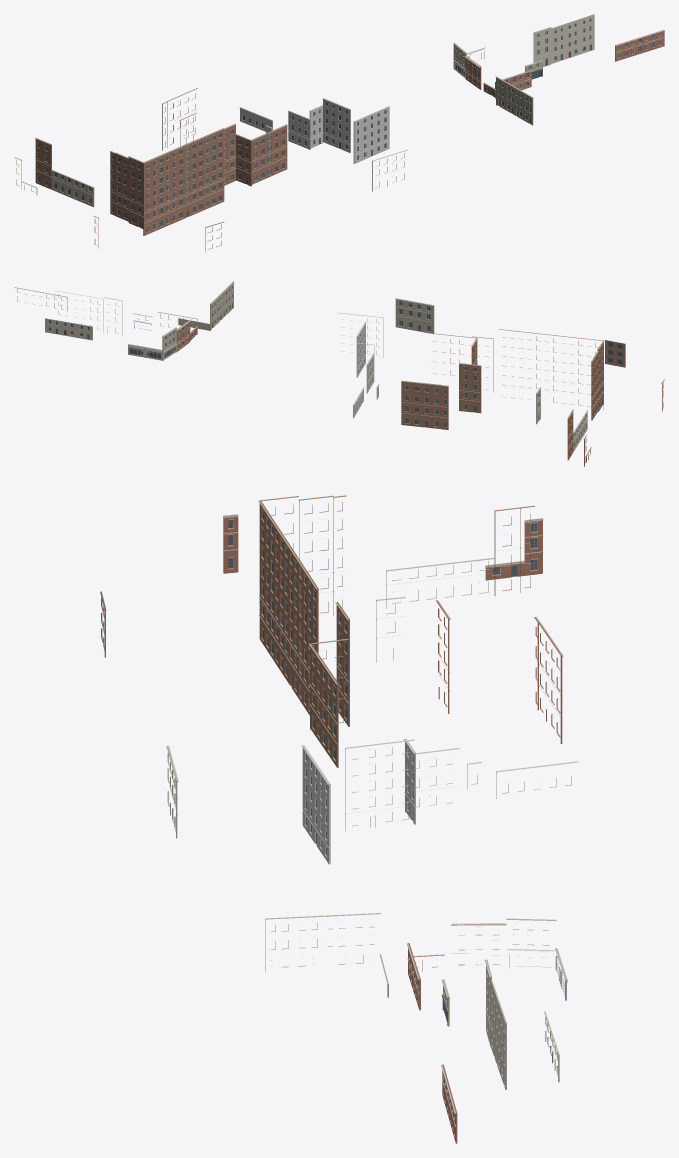
3 renders of one model, top to bottom at view 1: azimuth 30°, elevation 25°; view 2: azimuth 150°, elevation 25°; view 3: azimuth 270°, elevation 25°, orthographic. The views are drawn at different scales.
Visible parts, largest first — view 1: f:way/136211502, f:way/136211509, f:way/419502415, f:way/159704093, f:way/159705520, f:way/136211504, f:way/159704090, f:way/159704091, f:way/159705519, f:way/159704084, f:way/159704086; view 2: f:way/419502415, f:way/136211502, f:way/138144337, f:way/136211509, f:way/159704093, f:way/159705520, f:way/159704084, f:way/138144312, f:way/136211504, f:way/159704086; view 3: f:way/136211502, f:way/419502415, f:way/136211509, f:way/46928888, f:way/159704093.
Boxes of the visible parts, x1,y1,x2,y2 form: f:way/136211502: (35,128,224,235); f:way/136211509: (239,98,389,163); f:way/419502415: (162,88,287,186); f:way/159704093: (551,14,594,63); f:way/159705520: (495,76,533,125); f:way/136211504: (51,169,94,207); f:way/159704090: (615,30,664,61); f:way/159704091: (533,27,551,66); f:way/159705519: (483,70,531,98); f:way/159704084: (453,42,485,78); f:way/159704086: (464,56,481,89); f:way/419502415: (401,333,493,429); f:way/136211502: (499,329,604,460); f:way/138144337: (395,298,434,334); f:way/136211509: (337,312,383,418); f:way/159704093: (45,291,103,340); f:way/159705520: (178,281,234,330); f:way/159704084: (128,327,176,360); f:way/138144312: (605,340,625,367); f:way/136211504: (536,387,587,451); f:way/159704086: (176,320,190,351); f:way/136211502: (258,495,534,715); f:way/419502415: (309,600,563,767); f:way/136211509: (302,738,578,864); f:way/46928888: (223,514,543,580); f:way/159704093: (490,980,559,1089).
Size of the model in its own units: 231 by 25.71 by 80.61.
